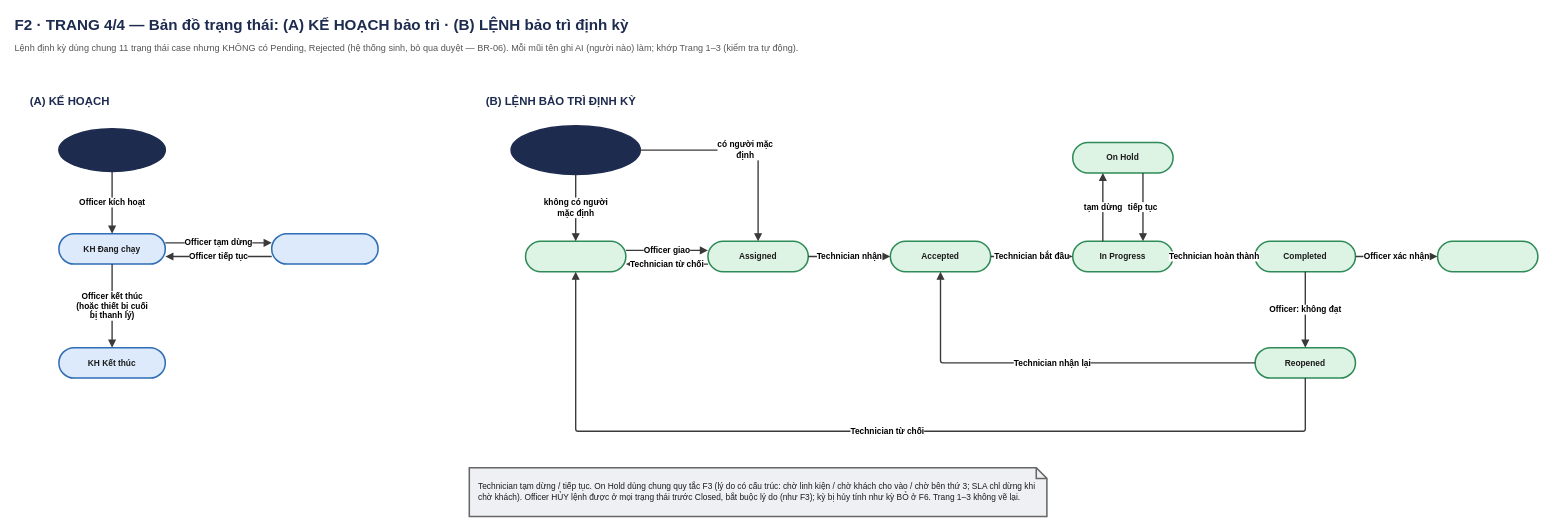
The diagram is 1558 pixels wide and 530 high, and some of its shapes have lost their labels. Here are the shapes that lost their labels. From the top down, the centre of each, then its label:
At [112,150]: "Officer lập (Trang 1)".
At [575,150]: "Hệ thống sinh lệnh (BR-06; Officer giữ kỳ)".
At [324,248]: "KH Tạm dừng".
At [575,256]: "Approved".
At [1487,256]: "Closed".
